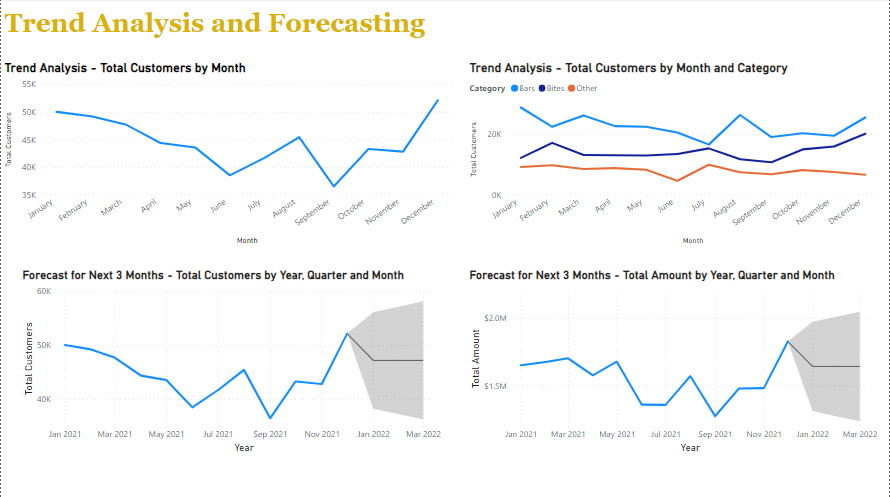

The page's visual inventory and layout, read from the dashboard file:
{"tool":"powerbi","page":{"name":"Trend Analysis and Forecasting","canvas":[1280,720],"ordinal":2},"visuals":[{"type":"lineChart","title":"Trend Analysis - Total Customers by Month","fields":{"Category":["sales.Date.Variation.Date Hierarchy.Year","sales.Date.Variation.Date Hierarchy.Quarter","sales.Date.Variation.Date Hierarchy.Month","sales.Date.Variation.Date Hierarchy.Day"],"Y":["sales.Total Customers"]},"box":[0,89.3,653.8,270.7],"z":0},{"type":"lineChart","title":"Trend Analysis - Total Customers by Month and Category","fields":{"Category":["sales.Date.Variation.Date Hierarchy.Year","sales.Date.Variation.Date Hierarchy.Quarter","sales.Date.Variation.Date Hierarchy.Month","sales.Date.Variation.Date Hierarchy.Day"],"Y":["sales.Total Customers"],"Series":["products.Category"]},"box":[669.6,89.3,597.6,270.7],"z":1000},{"type":"lineChart","title":"Forecast for Next 3 Months - Total Customers by Year, Quarter and Month","fields":{"Category":["sales.Date.Variation.Date Hierarchy.Year","sales.Date.Variation.Date Hierarchy.Quarter","sales.Date.Variation.Date Hierarchy.Month","sales.Date.Variation.Date Hierarchy.Day"],"Y":["sales.Total Customers"]},"box":[25.9,388.8,613.4,270.7],"z":2001},{"type":"lineChart","title":"Forecast for Next 3 Months - Total Amount by Year, Quarter and Month","fields":{"Category":["sales.Date.Variation.Date Hierarchy.Year","sales.Date.Variation.Date Hierarchy.Quarter","sales.Date.Variation.Date Hierarchy.Month","sales.Date.Variation.Date Hierarchy.Day"],"Y":["sales.Total Amount"]},"box":[669.6,388.8,597.6,270.7],"z":2002},{"type":"textbox","box":[0,10.1,639.4,63.4],"z":2003}]}

Visuals, with their boxes in screenshot pixels (x1, y1, x2, y2), scaled from the page's 1280x720 canvas onto the 890x497 screenshot:
"Trend Analysis - Total Customers by Month" lineChart: region(0, 62, 455, 248)
"Trend Analysis - Total Customers by Month and Category" lineChart: region(466, 62, 881, 248)
"Forecast for Next 3 Months - Total Customers by Year, Quarter and Month" lineChart: region(18, 268, 445, 455)
"Forecast for Next 3 Months - Total Amount by Year, Quarter and Month" lineChart: region(466, 268, 881, 455)
textbox: region(0, 7, 445, 51)
